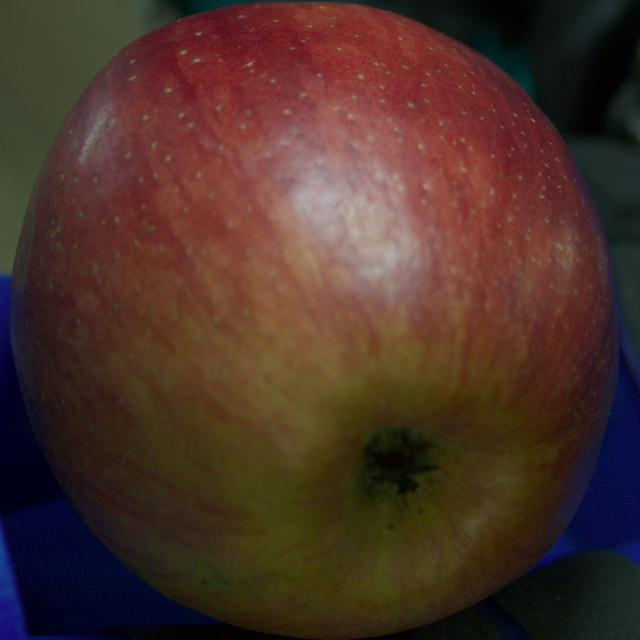apple: (11, 2, 618, 639)
